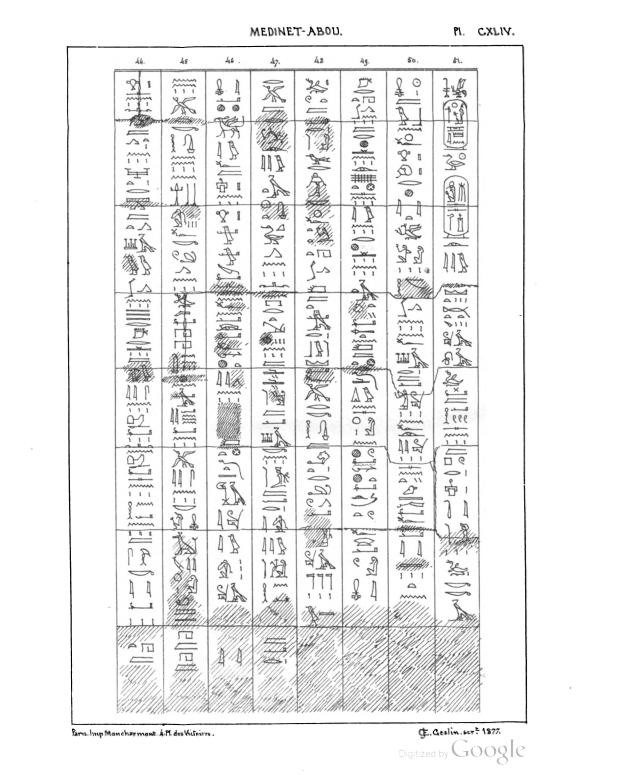circle: (440, 172, 474, 242), (440, 98, 471, 153)
